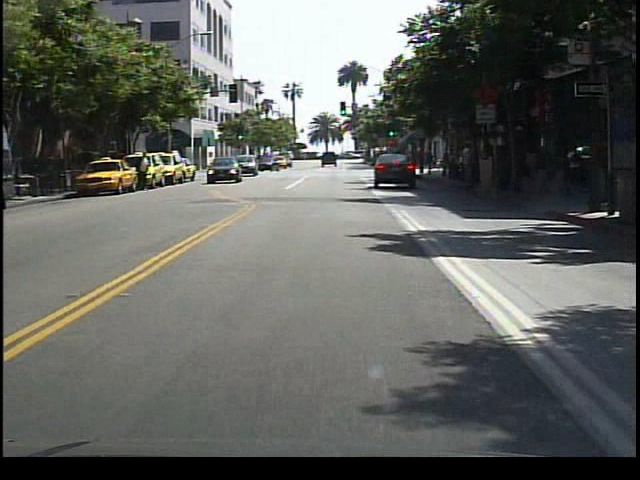person: (457, 137, 479, 196), (137, 148, 154, 195)
